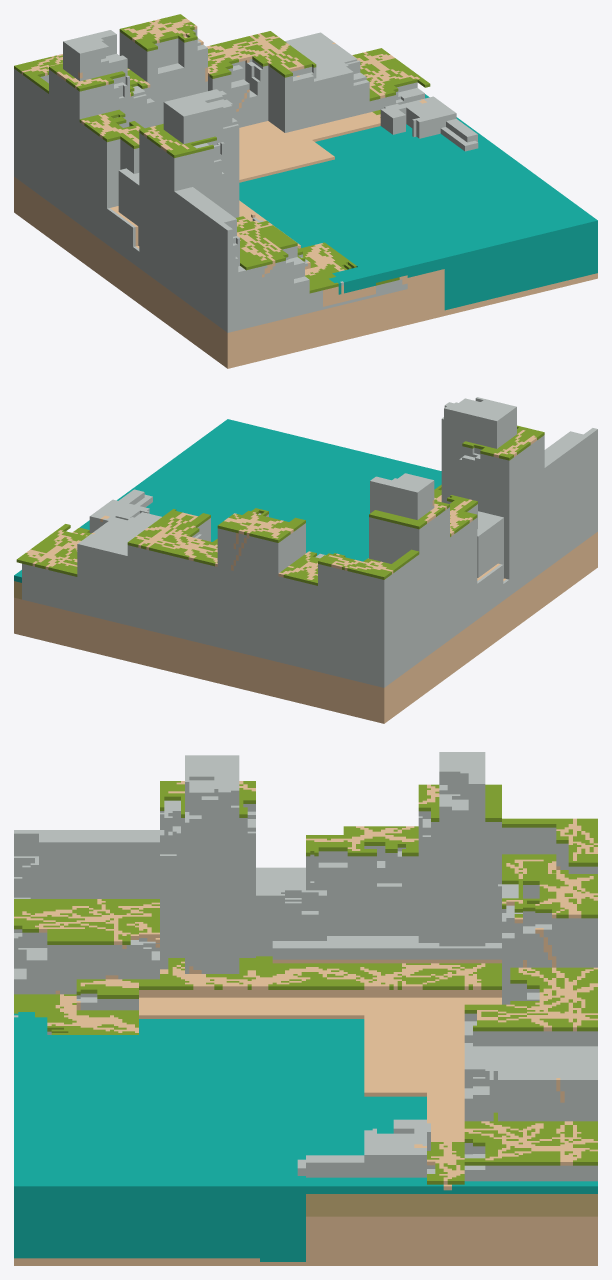
Rendered from Playa-Alterna-6.obj.
3 views of the same model, one above another, from view 1: azimuth 30°, elevation 25°; view 2: azimuth 150°, elevation 25°; view 3: azimuth 270°, elevation 25° (orthographic). The views are drawn at different scales.
Size of the model in its own units: 14 by 7.3 by 14.
Materials: 1 (1 with a texture image).
